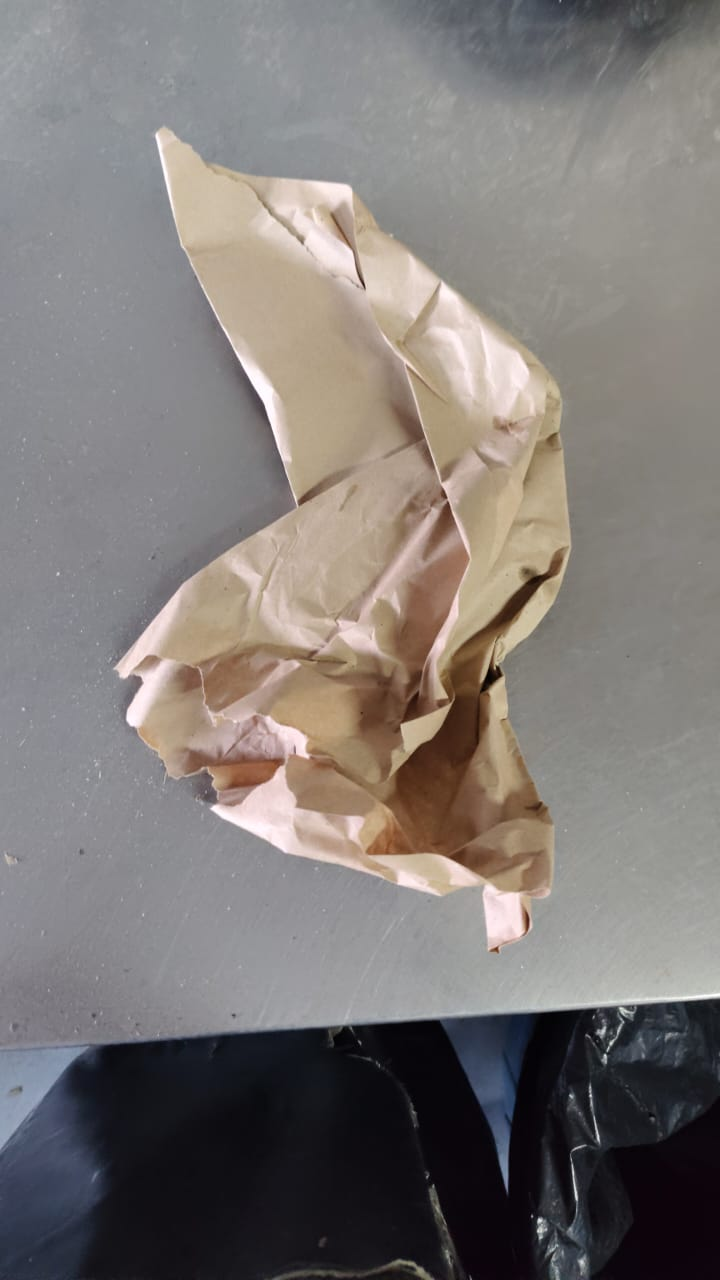Carton: (114, 129, 573, 953)
